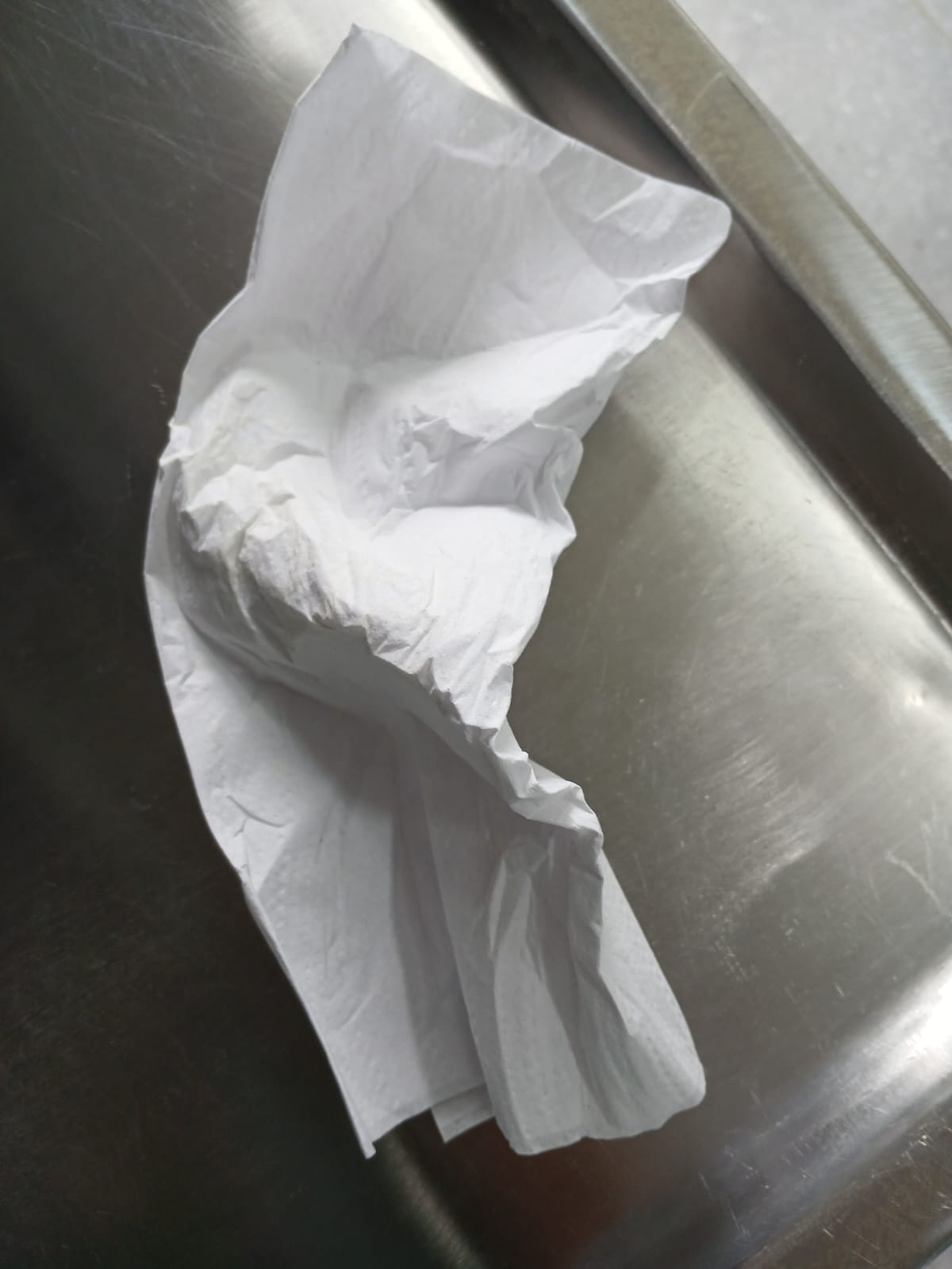Ordinario: (145, 27, 731, 1165)
